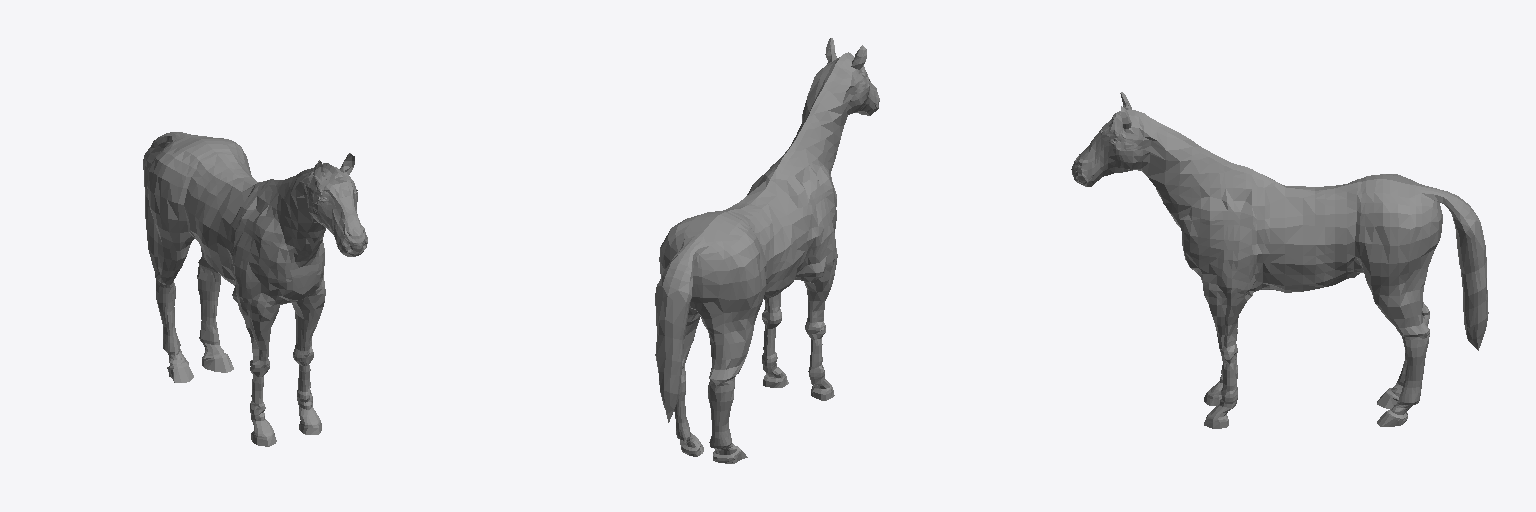
The model's file is Horse_brown_jump_OBJ.obj.
3 renders of one model, left to right at view 1: azimuth 30°, elevation 25°; view 2: azimuth 150°, elevation 25°; view 3: azimuth 270°, elevation 25°, orthographic.
Parts seen in each view (by area): view 1: Horse_brown_jump; view 2: Horse_brown_jump; view 3: Horse_brown_jump.
Boxes of the visible parts, x1=… form: Horse_brown_jump: x1=143, y1=132, x2=367, y2=446; Horse_brown_jump: x1=655, y1=38, x2=879, y2=463; Horse_brown_jump: x1=1071, y1=92, x2=1488, y2=428.
Bounding box in the file's own units: 26.52 × 85.49 × 103.